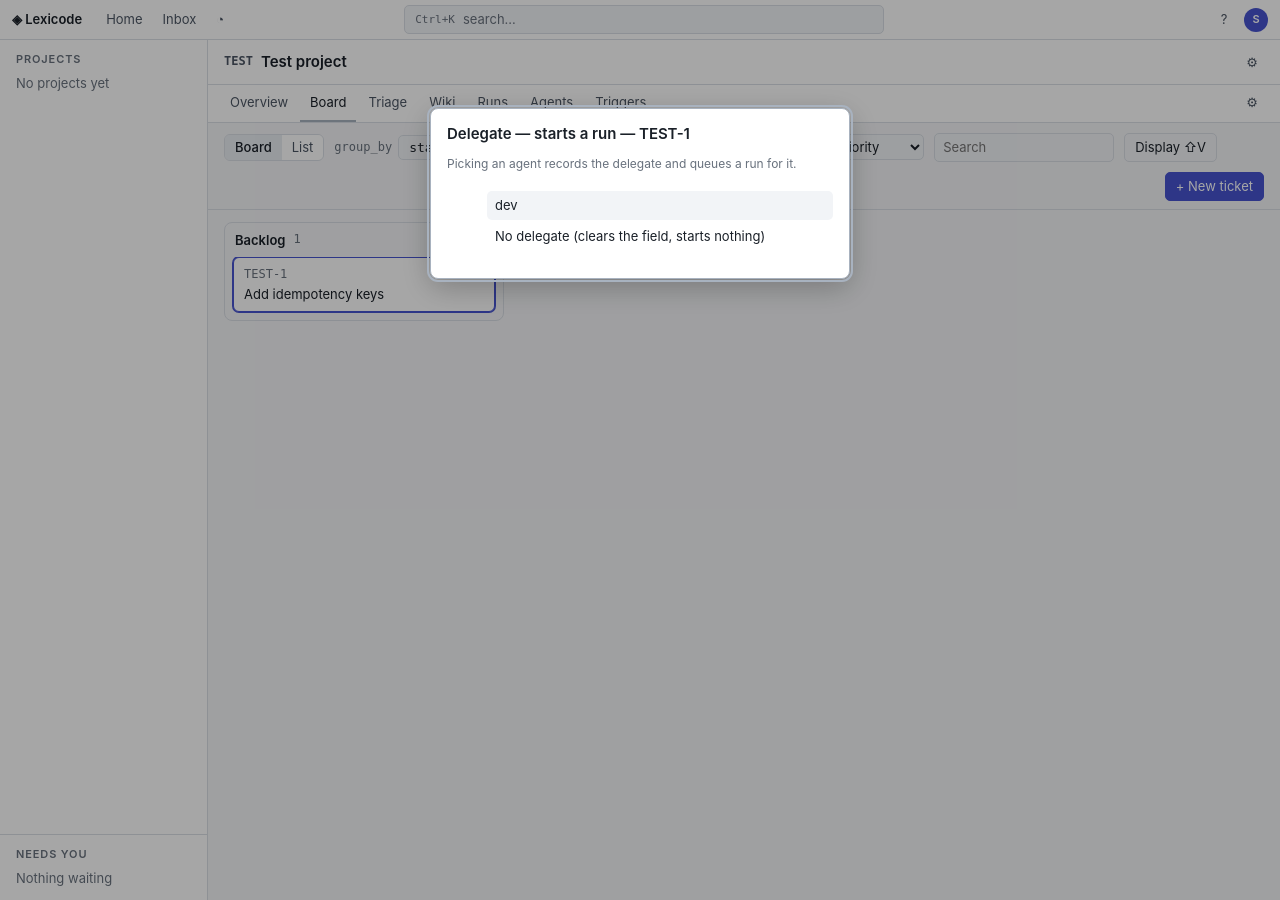
Test: the board's `D` picker starts a run (UI spec §5.3) › surfaces a refusal's detail inline instead of doing nothing visible
This screenshot has width=1280, height=900.
Step 1. Click the option "dev" → coordinates (506, 205), box [487,191,833,220]
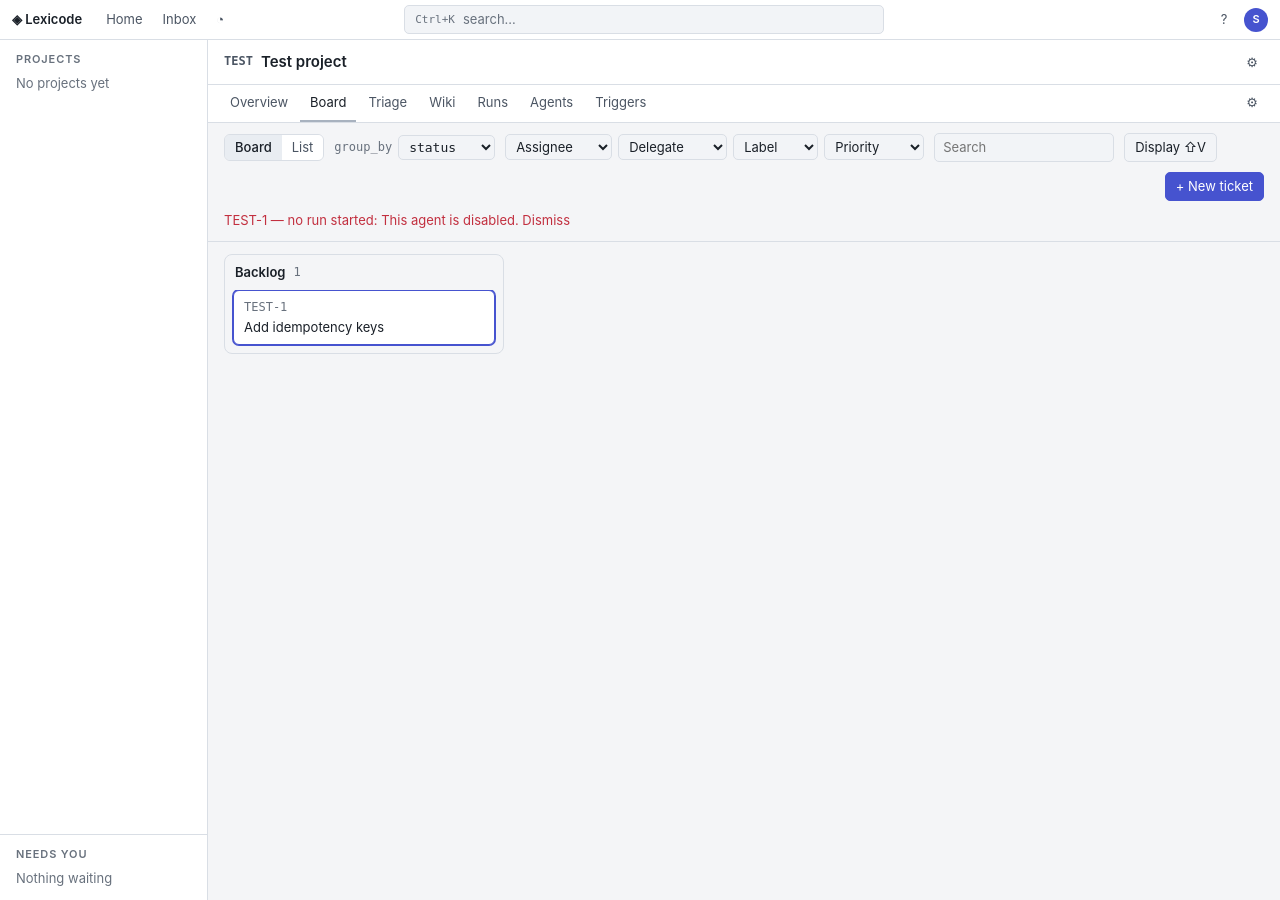
Expected: the message "TEST-1 — no run started: This agent is disabled. Dismiss" is shown, [224,210,570,229]
